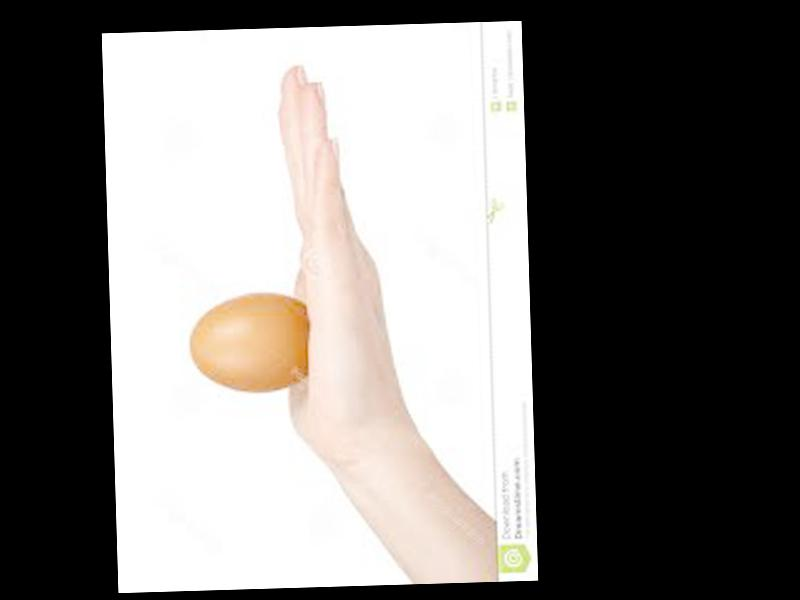Eggs: (188, 290, 314, 392)
